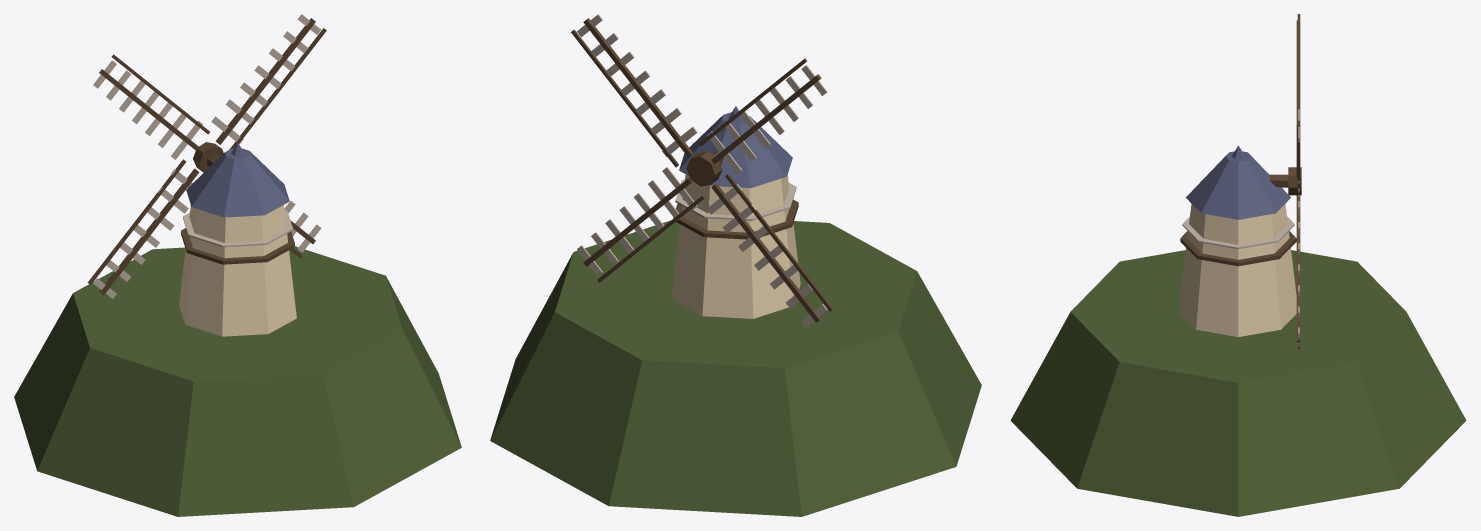
Rendered from moulin_galette.glb.
3 views of the same model, side by side, from view 1: azimuth 30°, elevation 25°; view 2: azimuth 150°, elevation 25°; view 3: azimuth 270°, elevation 25° (orthographic). The views are drawn at different scales.
Visible parts, largest first — view 1: moulin_galette; view 2: moulin_galette; view 3: moulin_galette.
Boxes of the visible parts, <box> form: moulin_galette: <box>14,14,461,516</box>; moulin_galette: <box>490,14,981,516</box>; moulin_galette: <box>1010,14,1466,516</box>.
Bounding box in the file's own units: 19 × 16.63 × 19.
